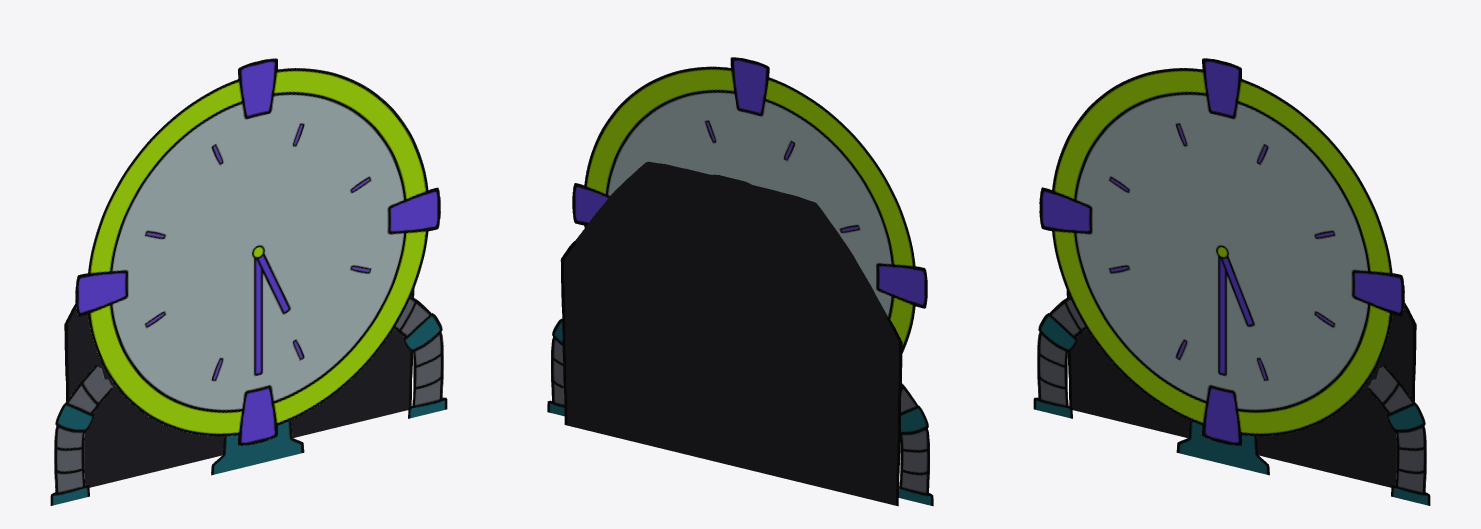
Rendered from SM_Trap_TimeMachine.fbx.
The picture shows the model from 3 angles, left to right: view 1: azimuth 30°, elevation 25°; view 2: azimuth 150°, elevation 25°; view 3: azimuth 330°, elevation 25°; orthographic projection. The views are drawn at different scales.
Parts seen in each view (by area): view 1: trap_timemachine; view 2: trap_timemachine; view 3: trap_timemachine.
Part boxes in pixels (left/top/right/bottom): trap_timemachine: left=50, top=58, right=447, bottom=505; trap_timemachine: left=547, top=57, right=933, bottom=506; trap_timemachine: left=1033, top=58, right=1430, bottom=505.
Size of the model in its own units: 96.64 by 79.81 by 6.59.
